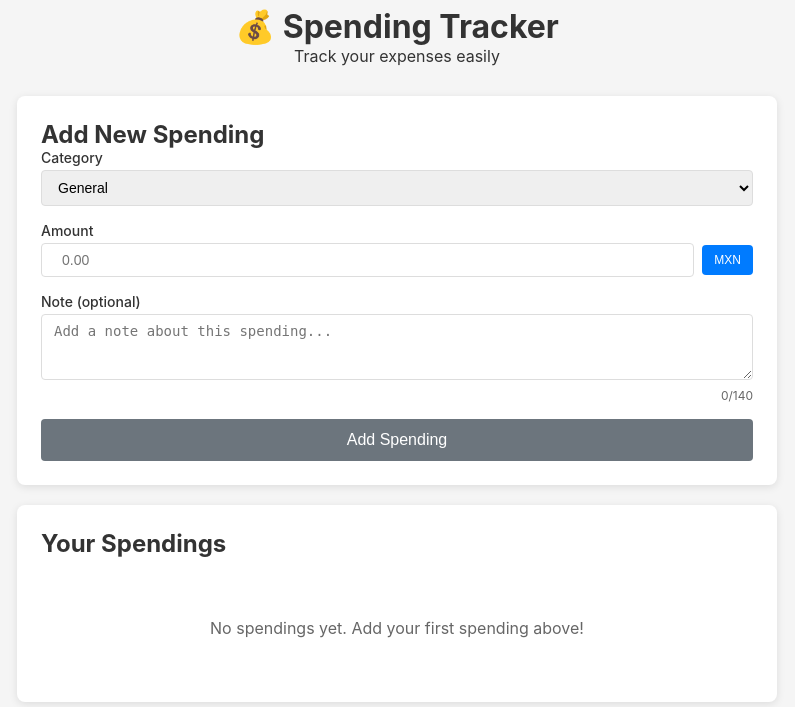
Test case: Spending Tracker App › Adding Spendings › adds spending with different currency
Type "25.00" into the field with test id "amount-input" showing "Amount" at x=368, y=260, box [41, 243, 694, 277]
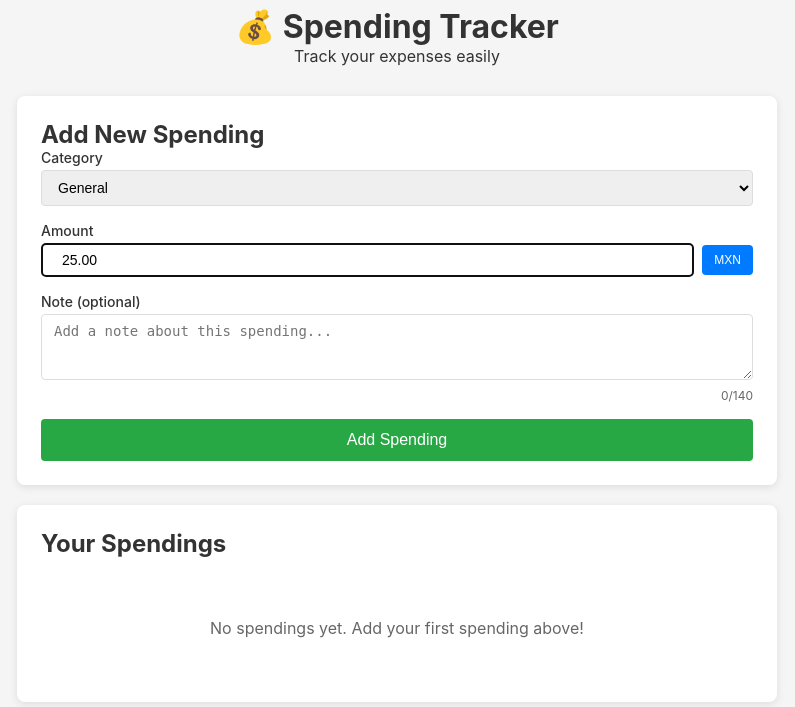
Click the button with test id "currency-toggle" at x=728, y=260, box [702, 245, 753, 275]
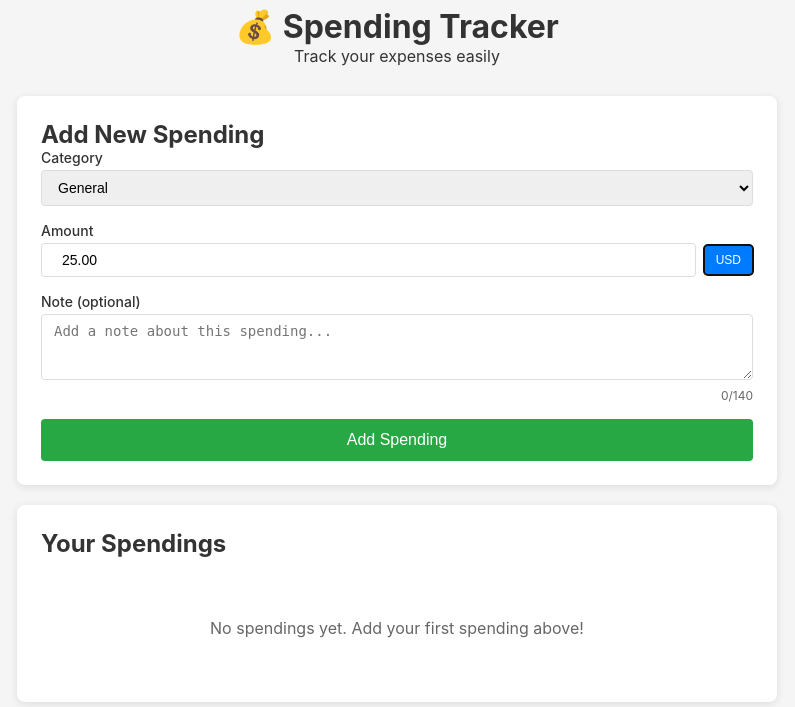
Click the button with test id "add-spending-btn" at x=397, y=440, box [41, 419, 753, 461]
(page scrolled)
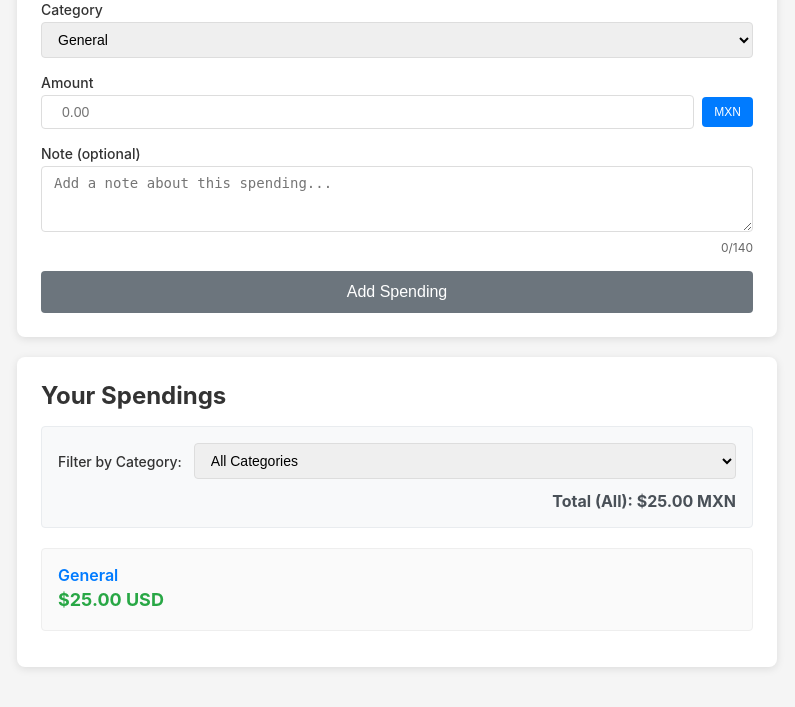
Result: the text "$25.00 USD" is shown at [58, 589, 164, 610]
